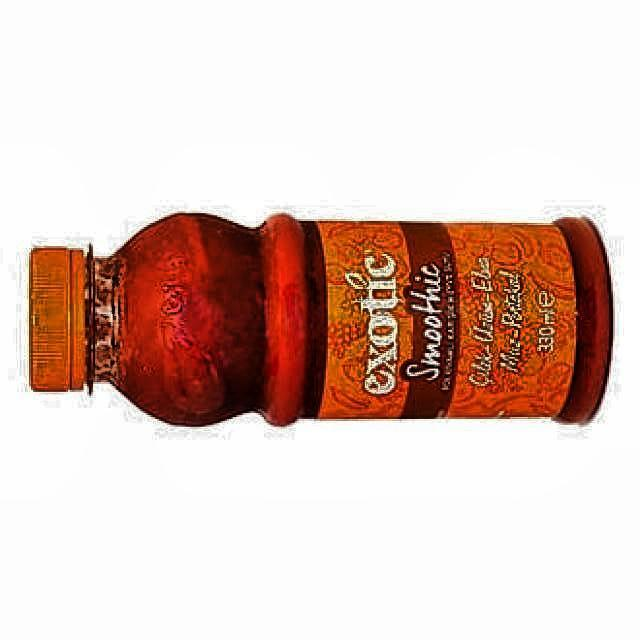plastic: (30, 214, 612, 425)
